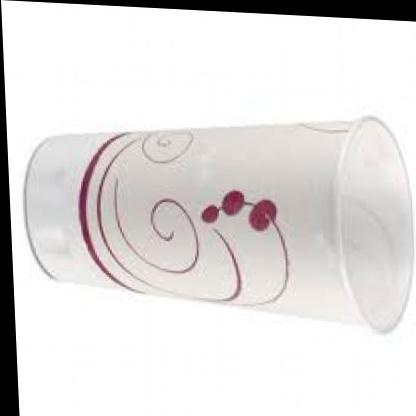trash: (25, 117, 412, 330)
